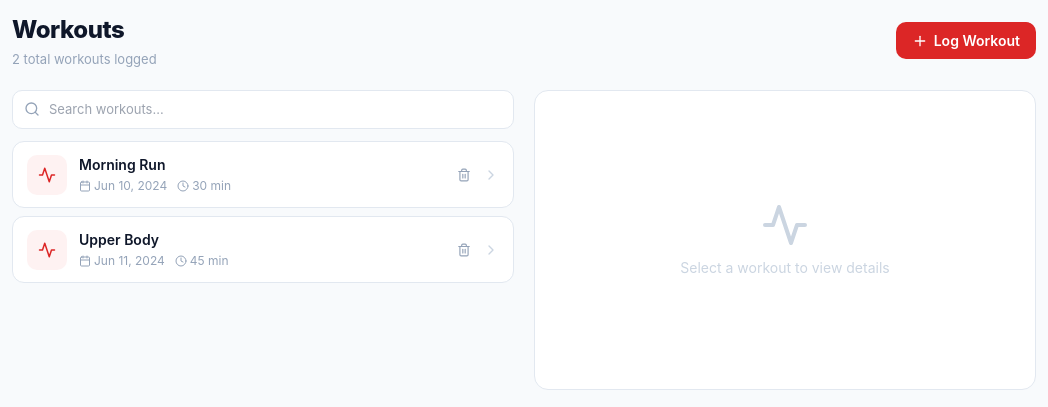
Scenario: Workouts Page › loads workout detail on click
Click the text "Morning Run": (122, 164) [79, 156, 166, 173]
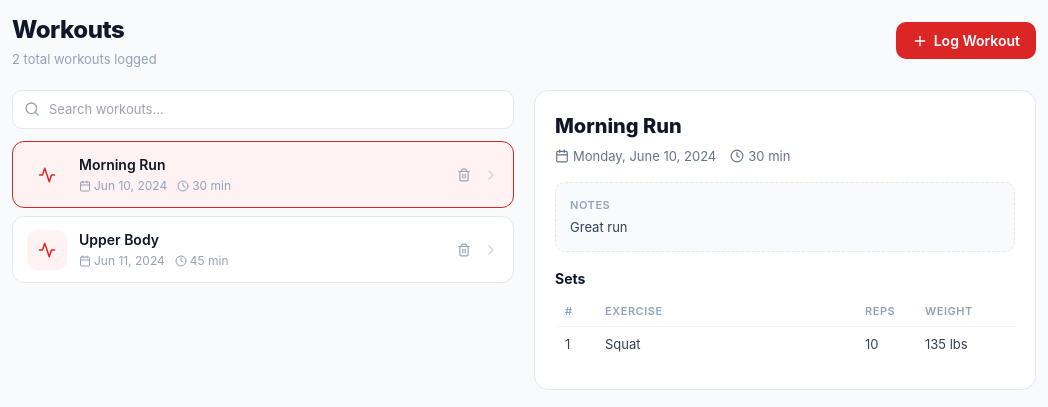
Now the text "Squat" is shown, box [605, 336, 640, 352]
